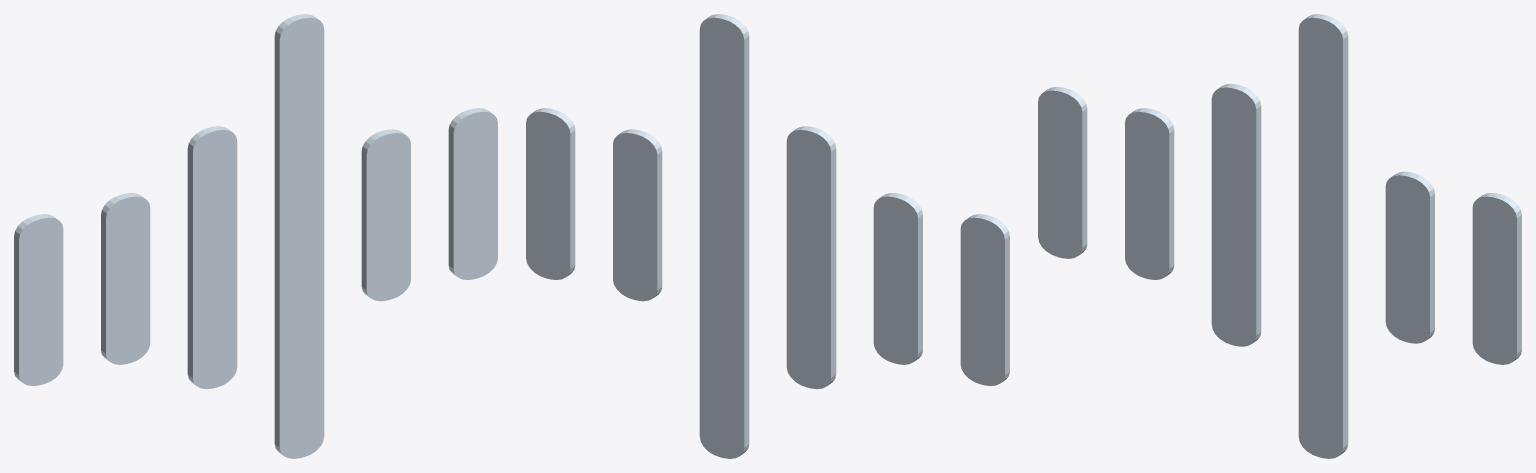
File: Audio_3D_Icon_03.fbx
The picture shows the model from 3 angles, left to right: view 1: azimuth 30°, elevation 25°; view 2: azimuth 150°, elevation 25°; view 3: azimuth 330°, elevation 25°; orthographic projection.
Visible parts, largest first — view 1: Audio_3D_Icon_03; view 2: Audio_3D_Icon_03; view 3: Audio_3D_Icon_03.
Part boxes in pixels (left/top/right/bottom): Audio_3D_Icon_03: left=14, top=14, right=497, bottom=458; Audio_3D_Icon_03: left=526, top=14, right=1009, bottom=458; Audio_3D_Icon_03: left=1038, top=14, right=1521, bottom=458.
Bounding box in the file's own units: 110 × 96.5 × 2.
